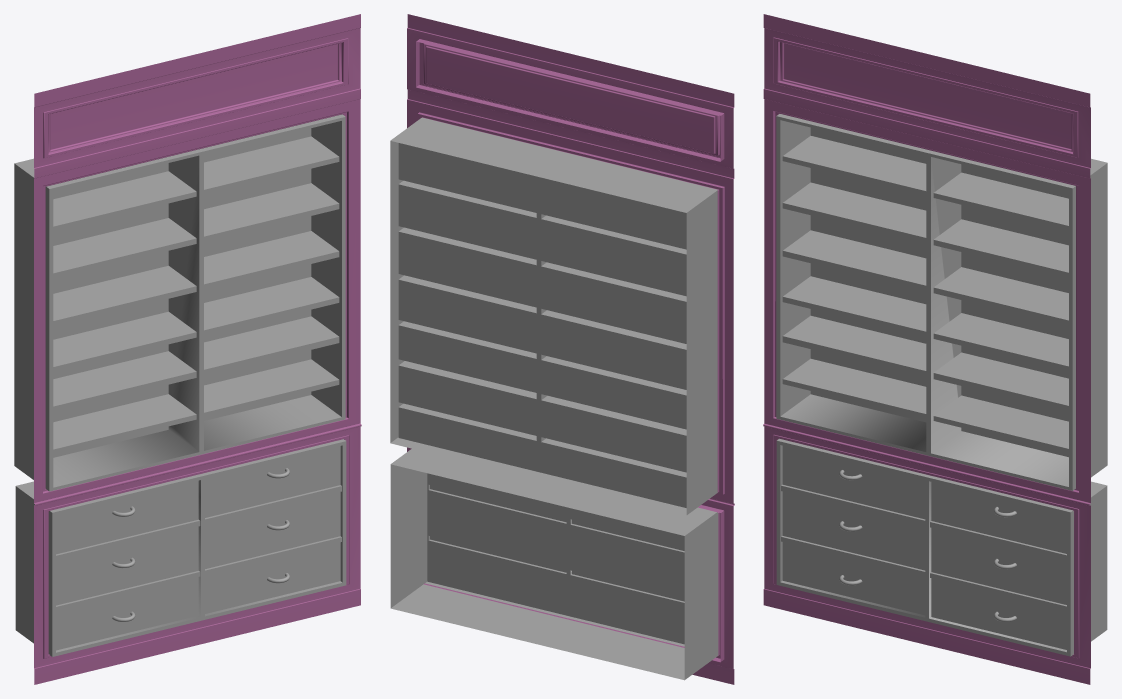
File: Bookcase_L_tryout3.fbx
The picture shows the model from 3 angles, left to right: view 1: azimuth 30°, elevation 25°; view 2: azimuth 150°, elevation 25°; view 3: azimuth 330°, elevation 25°; orthographic projection.
Visible parts, largest first — view 1: pCube848, polySurface1509, pCube847; view 2: pCube848, pCube847, polySurface1509; view 3: pCube848, polySurface1509, pCube847.
Boxes of the visible parts, x1=… form: pCube848: x1=14, y1=114, x2=345, y2=491; polySurface1509: x1=34, y1=14, x2=361, y2=684; pCube847: x1=15, y1=439, x2=346, y2=656; pCube848: x1=390, y1=117, x2=717, y2=515; pCube847: x1=390, y1=448, x2=718, y2=680; polySurface1509: x1=407, y1=14, x2=734, y2=684; pCube848: x1=776, y1=114, x2=1107, y2=490; polySurface1509: x1=763, y1=14, x2=1090, y2=684; pCube847: x1=776, y1=438, x2=1107, y2=656.
Size of the model in its own units: 3 by 5.19 by 0.649.
